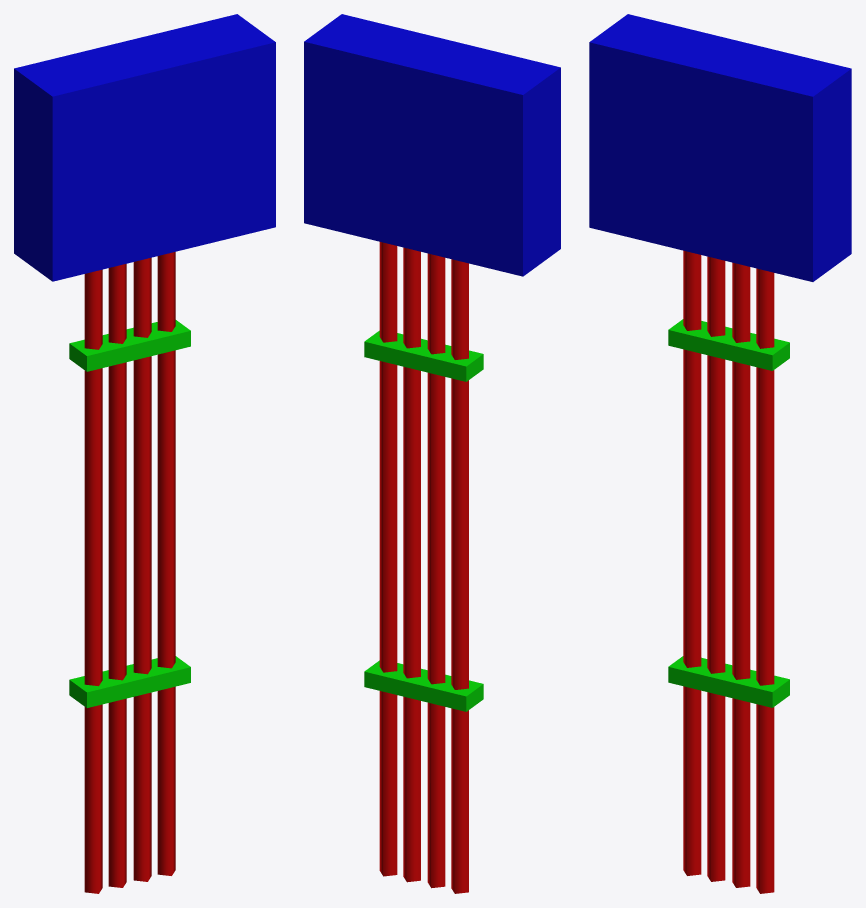
Rendered from FuseBox03.FBX.
The picture shows the model from 3 angles, left to right: view 1: azimuth 30°, elevation 25°; view 2: azimuth 150°, elevation 25°; view 3: azimuth 330°, elevation 25°; orthographic projection. The views are drawn at different scales.
Parts seen in each view (by area): view 1: FuseBox03; view 2: FuseBox03; view 3: FuseBox03.
Part boxes in pixels (<box>): FuseBox03: <box>14,14,275,893</box>; FuseBox03: <box>304,14,560,893</box>; FuseBox03: <box>589,14,851,893</box>.
Bounding box in the file's own units: 0.4954 × 1.77 × 0.1529.
